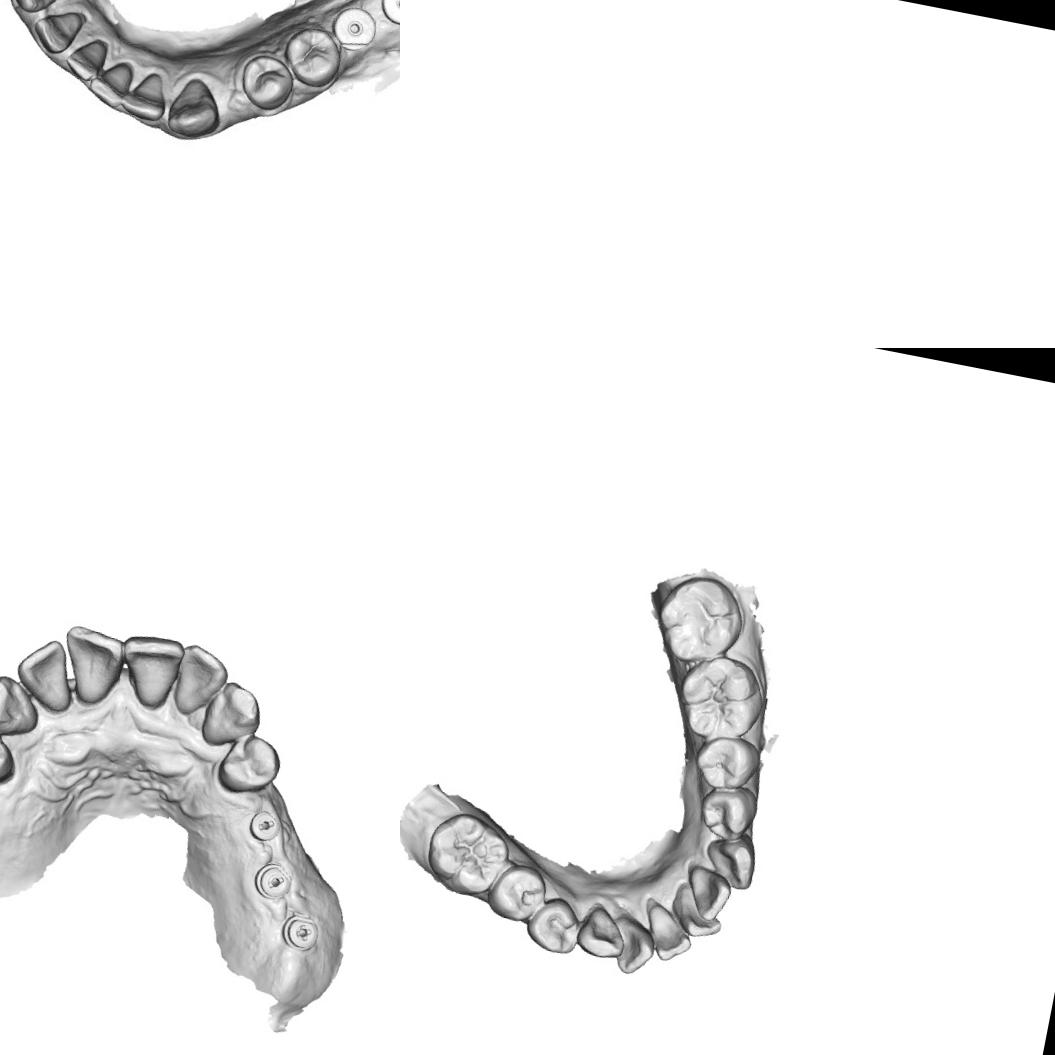canine: (196, 676, 267, 754), (162, 70, 228, 146), (700, 830, 763, 894), (0, 668, 46, 740), (574, 901, 626, 961), (0, 0, 72, 21)
implant: (330, 7, 378, 56), (380, 0, 400, 26)
implant_minus: (247, 858, 296, 905), (243, 808, 284, 846)
implant_plus: (276, 908, 322, 954)
incisor: (54, 622, 132, 711), (112, 627, 188, 714), (9, 632, 84, 716), (168, 639, 233, 721), (642, 901, 694, 967), (608, 913, 659, 980), (681, 867, 737, 925), (30, 2, 82, 55), (665, 898, 725, 943), (123, 66, 166, 120), (63, 32, 105, 79), (90, 59, 132, 105)
molar: (653, 576, 750, 670), (674, 652, 767, 746), (420, 808, 512, 900)
premolar: (213, 727, 286, 800), (490, 858, 552, 928), (690, 732, 758, 792), (525, 894, 582, 960), (284, 28, 342, 84), (700, 783, 756, 840), (239, 50, 291, 110), (0, 718, 21, 785)
